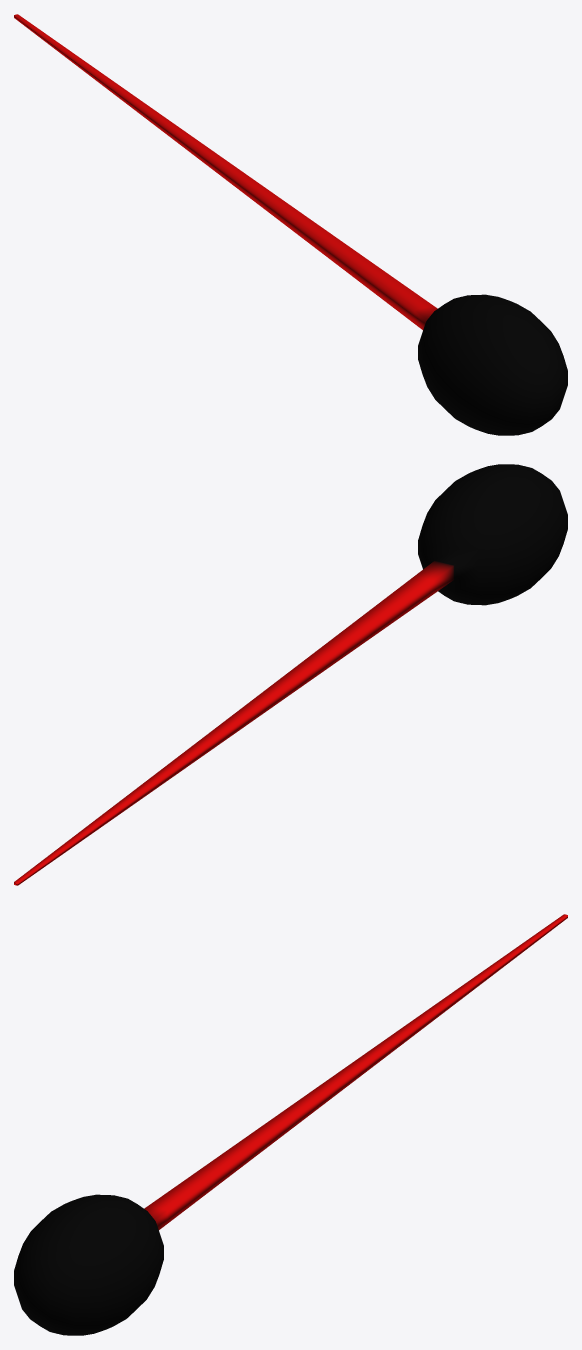
File: sperm.fbx
3 views of the same model, one above another, from view 1: azimuth 30°, elevation 25°; view 2: azimuth 150°, elevation 25°; view 3: azimuth 330°, elevation 25° (orthographic).
Parts seen in each view (by area): view 1: pSphere1; view 2: pSphere1; view 3: pSphere1.
Part boxes in pixels (x1,y1,x2,y2): pSphere1: [14, 14, 567, 435]; pSphere1: [14, 464, 567, 885]; pSphere1: [14, 914, 567, 1335].
Bounding box in the file's own units: 1.99 × 2 × 16.03.
